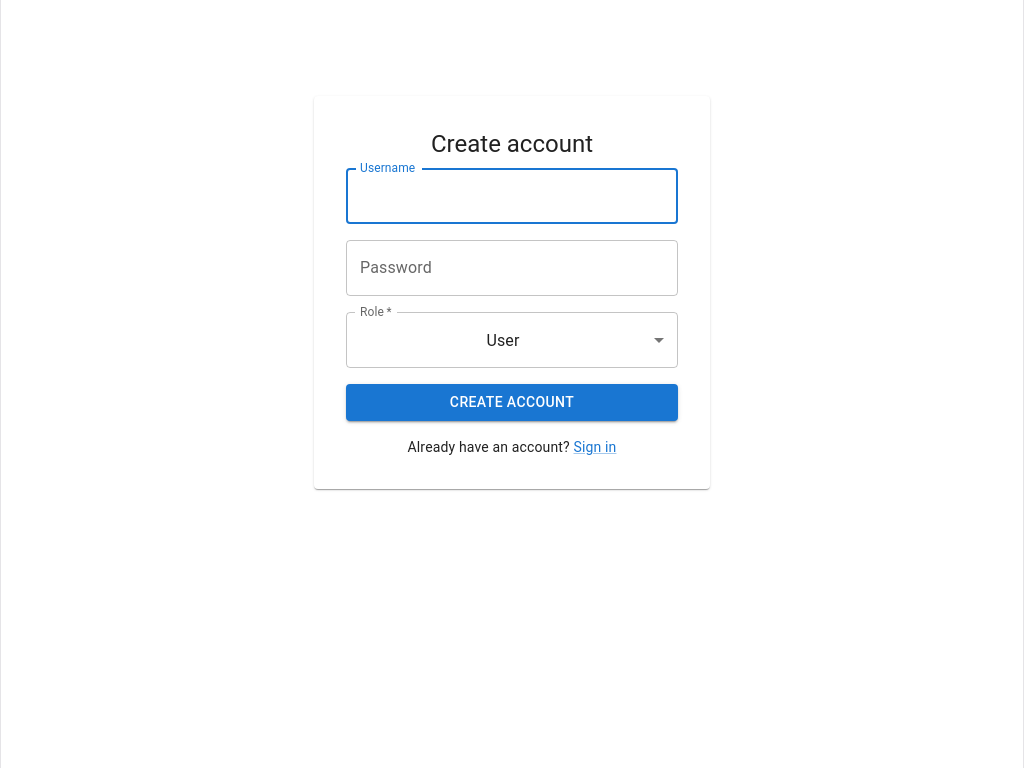
Scenario: RegisterPage › shows password length error when password is too short
In the password field labelled "Password": {"x": 512, "y": 268} [346, 240, 678, 296], type "short"
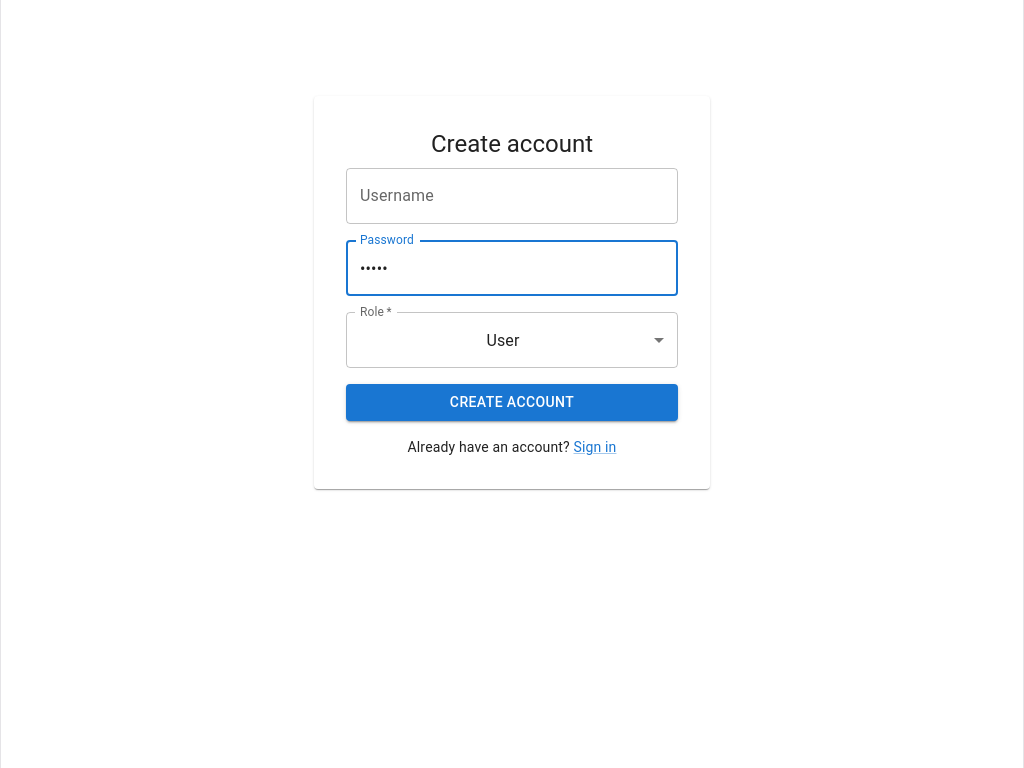
Click the button "Create account": {"x": 512, "y": 403} [346, 384, 678, 421]
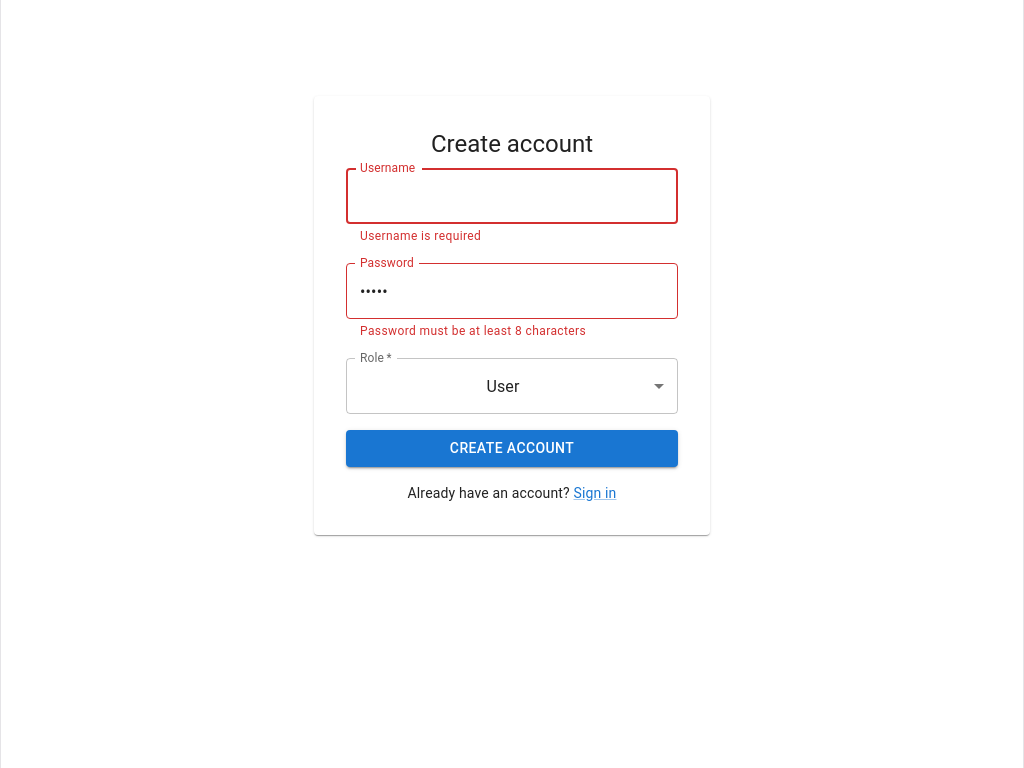
Result: the text "Password must be at least 8 characters" is shown at [360, 324, 586, 338]
